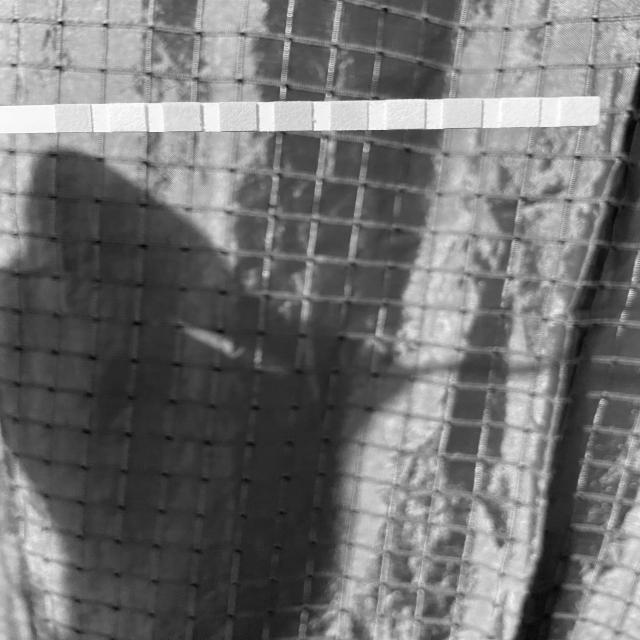Bilirubin: (110, 104, 147, 132)
Blood: (276, 102, 312, 130)
Glucose: (56, 104, 91, 132)
Ketone: (164, 104, 200, 132)
Leukocytes: (559, 98, 598, 126)
Nitrite: (502, 98, 538, 126)
Protein: (386, 100, 424, 129)
SpGravity: (220, 103, 256, 131)
Urobilinogen: (444, 99, 482, 128)
background: (0, 0, 640, 640)
pH: (332, 102, 366, 130)
strip: (0, 97, 599, 134)
